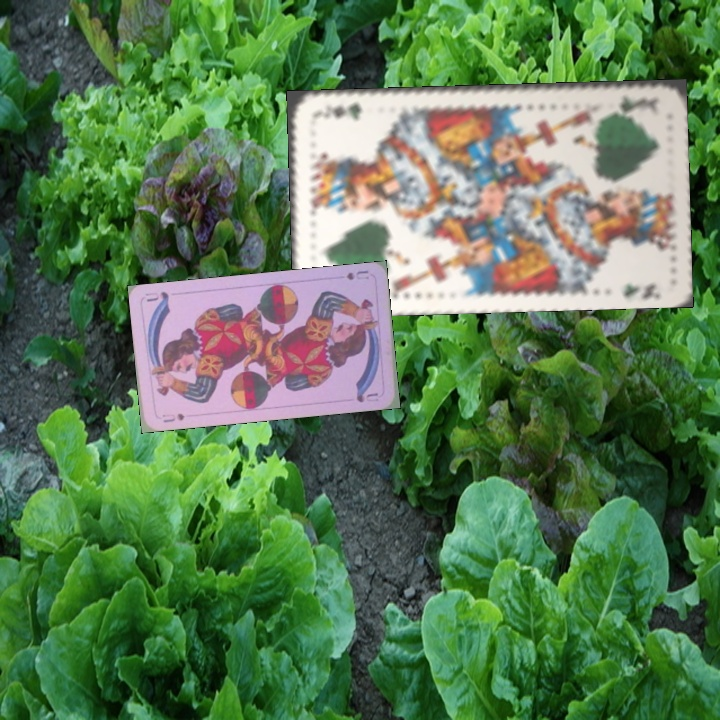GK: (605, 90, 656, 115)
SU: (342, 266, 371, 282), (158, 409, 187, 425)
